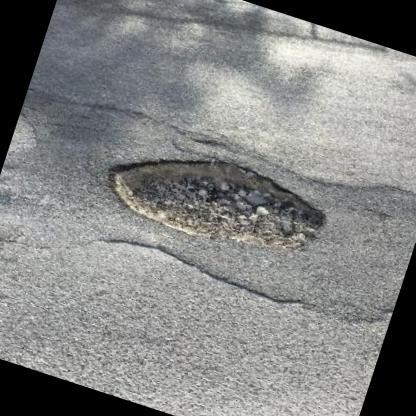pothole: (93, 121, 338, 272)
